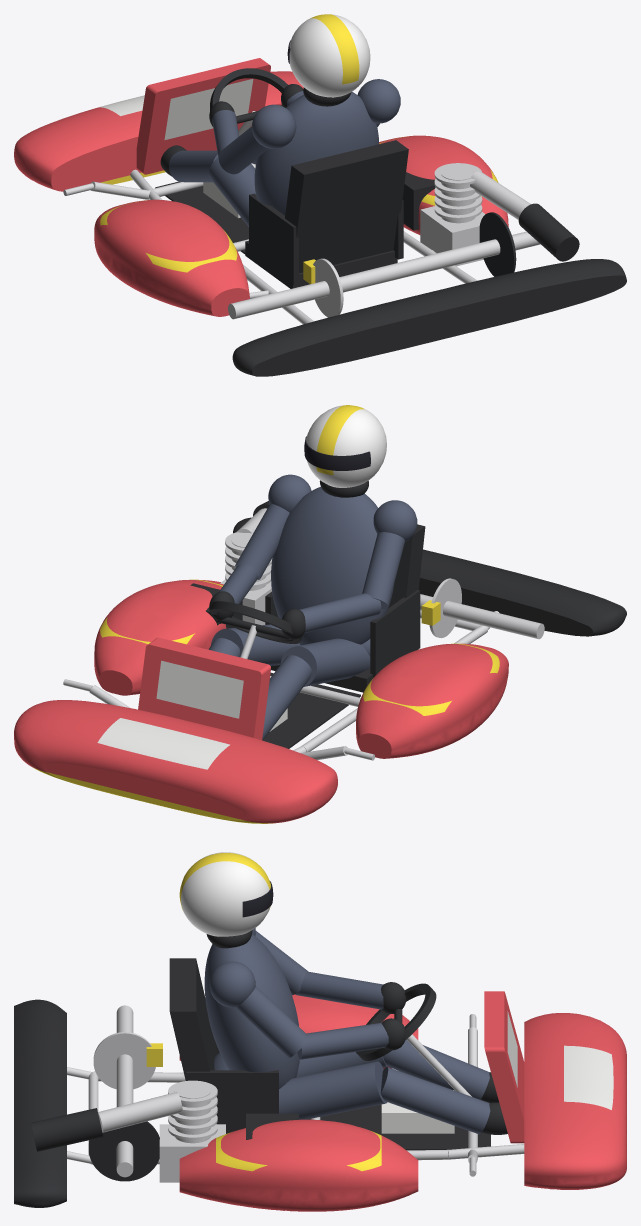
The model's file is body.glb.
3 renders of one model, top to bottom at view 1: azimuth 30°, elevation 25°; view 2: azimuth 150°, elevation 25°; view 3: azimuth 270°, elevation 25°, orthographic. The views are drawn at different scales.
Parts seen in each view (by area): view 1: Carbon, Livery, Metal, Suit, Helmet, LiveryWhite, Accent; view 2: Livery, Suit, Carbon, Metal, LiveryWhite, Accent, Helmet, Visor; view 3: Livery, Carbon, Suit, Metal, Helmet, LiveryWhite, Accent, Visor.
Part boxes in pixels (bbox=[...]): Carbon: bbox=[155, 68, 626, 376]; Livery: bbox=[14, 58, 508, 316]; Metal: bbox=[63, 111, 540, 324]; Suit: bbox=[169, 79, 400, 226]; Helmet: bbox=[289, 14, 370, 97]; LiveryWhite: bbox=[98, 79, 255, 218]; Accent: bbox=[100, 14, 498, 284]; Livery: bbox=[14, 579, 508, 823]; Suit: bbox=[209, 474, 417, 740]; Carbon: bbox=[190, 480, 626, 748]; Metal: bbox=[63, 508, 544, 760]; LiveryWhite: bbox=[97, 660, 287, 769]; Accent: bbox=[32, 405, 499, 823]; Helmet: bbox=[306, 405, 386, 487]; Visor: bbox=[304, 436, 370, 470]; Livery: bbox=[179, 991, 626, 1211]; Carbon: bbox=[14, 930, 507, 1207]; Suit: bbox=[204, 928, 490, 1134]; Metal: bbox=[67, 1005, 524, 1182]; Helmet: bbox=[181, 852, 269, 936]; LiveryWhite: bbox=[381, 1011, 613, 1133]; Accent: bbox=[146, 853, 381, 1171]; Visor: bbox=[242, 881, 273, 917].
Bounding box in the file's own units: 1.39 × 0.8904 × 1.85.
